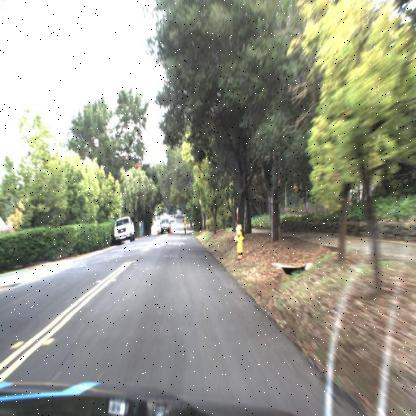car: (113, 213, 136, 247), (160, 212, 171, 235)
